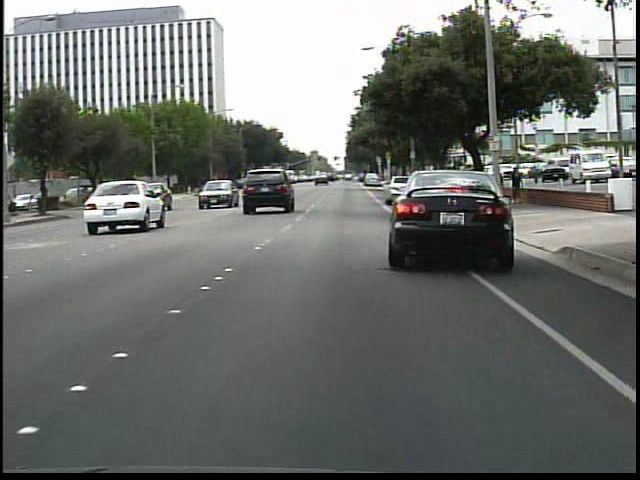person: (508, 163, 527, 205), (493, 167, 509, 205)
